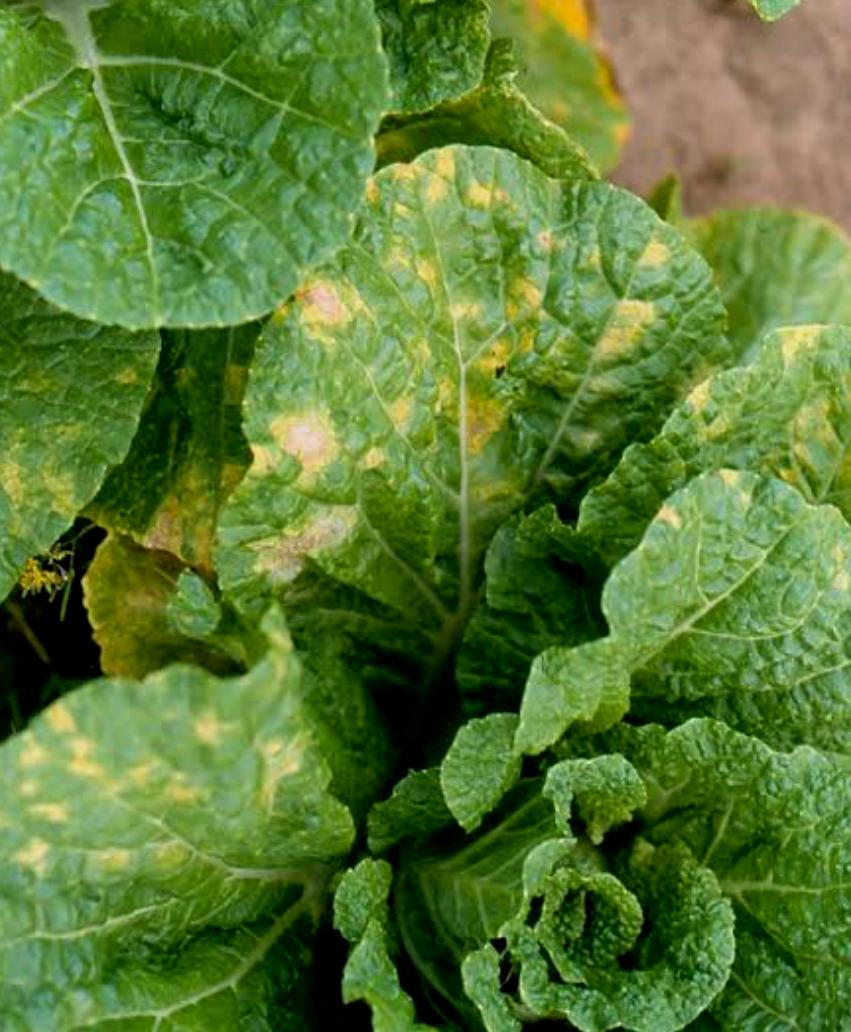Bok-Choy-Diseased: (213, 140, 770, 732)
